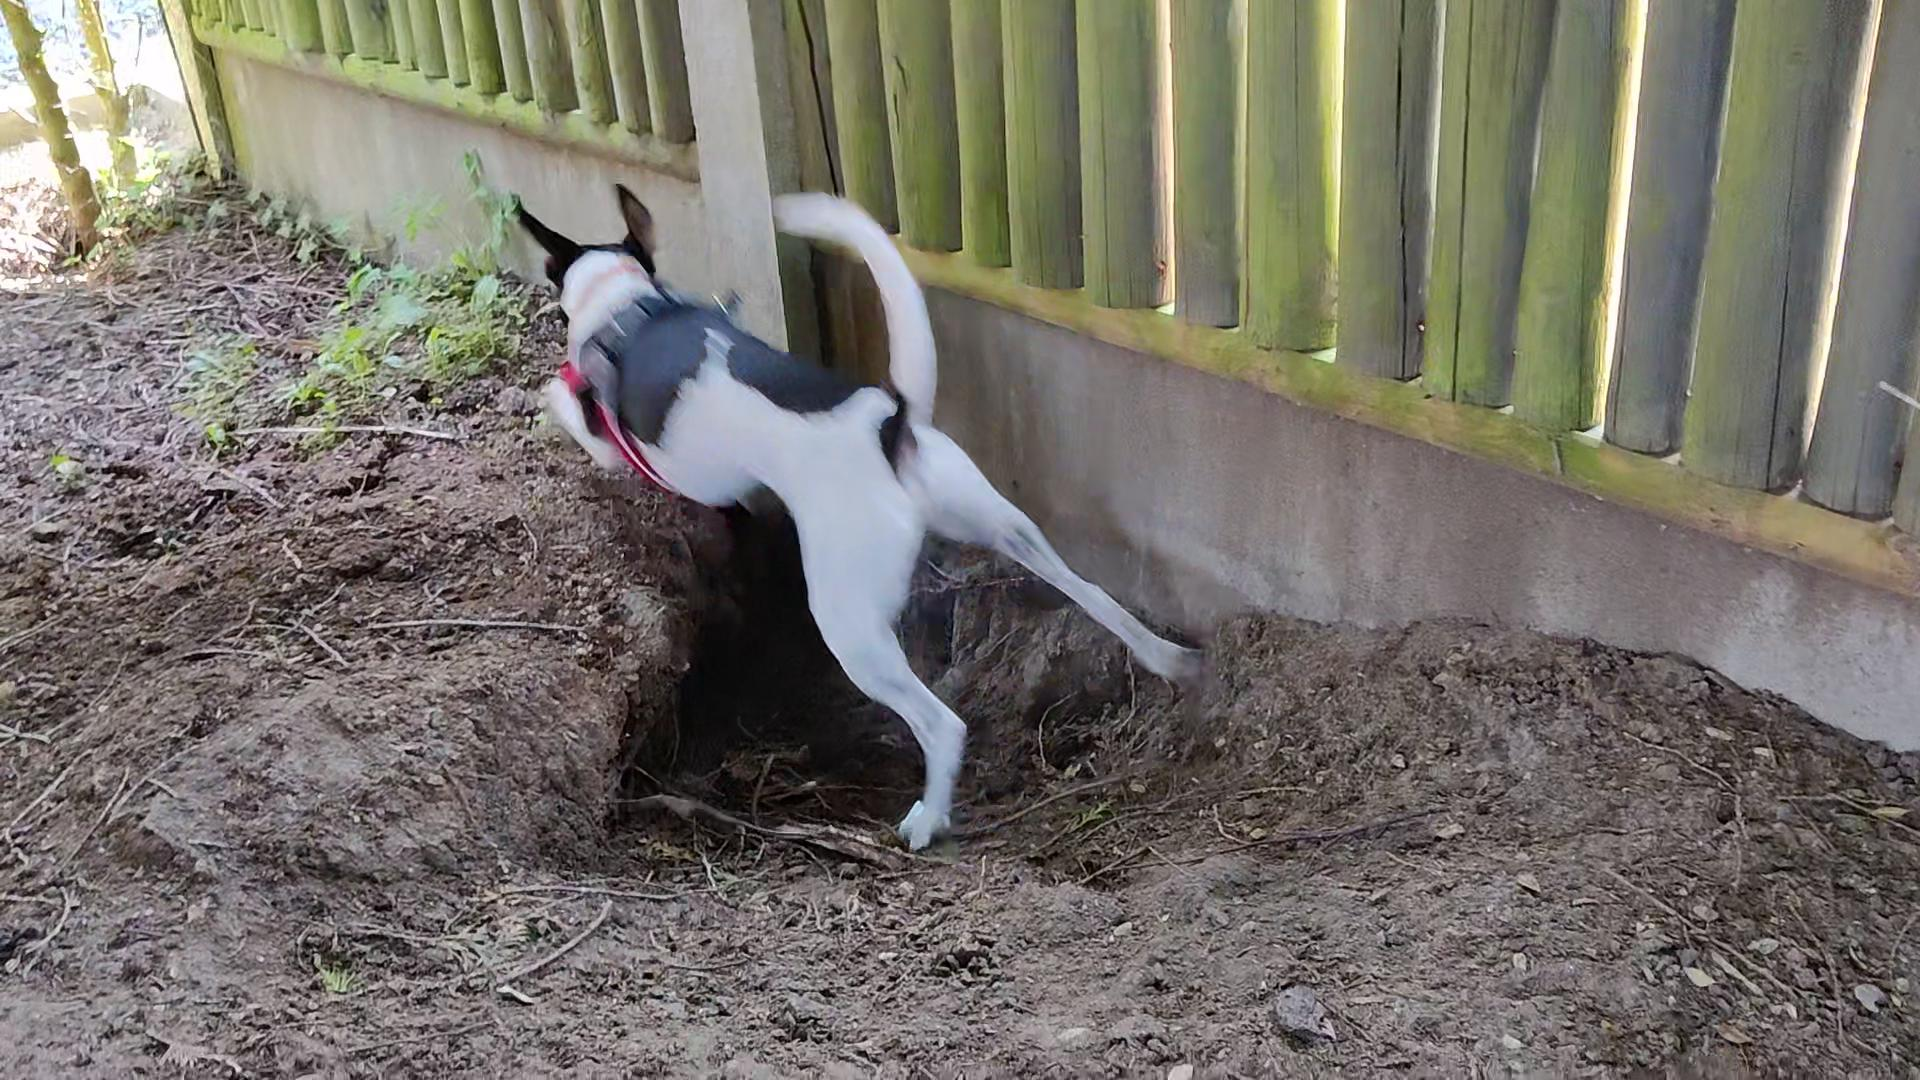Dog: (498, 166, 1224, 872)
